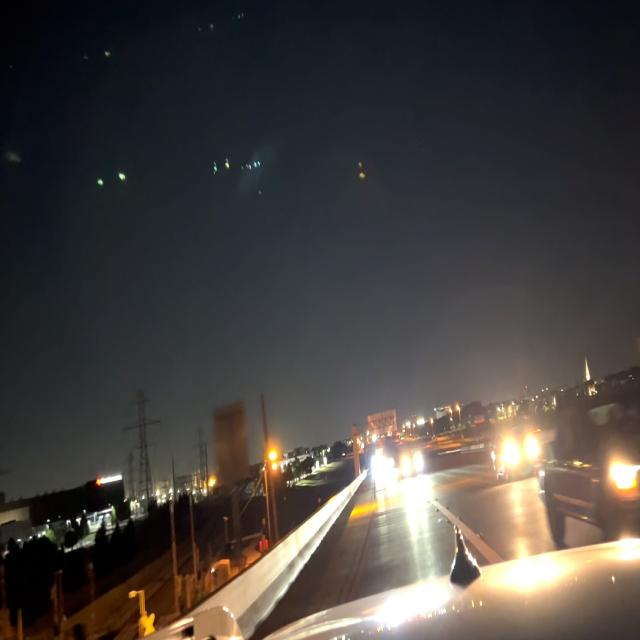back-of-sign: (212, 403, 251, 488)
